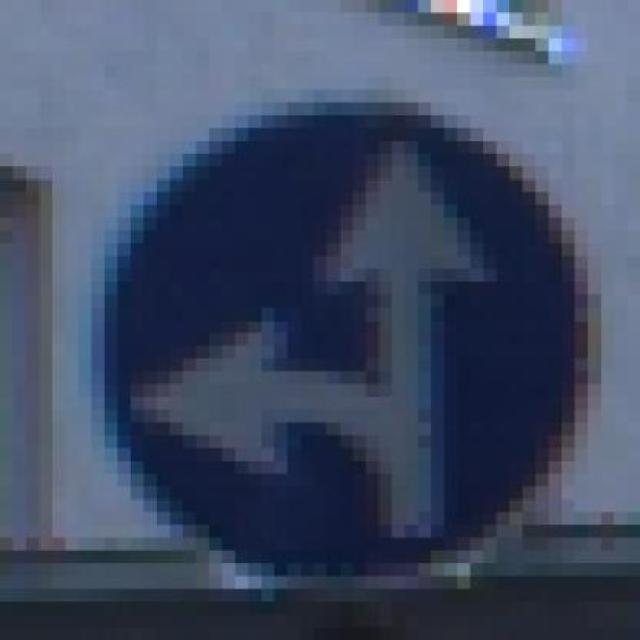Go straight or turn left: (65, 76, 613, 576)
